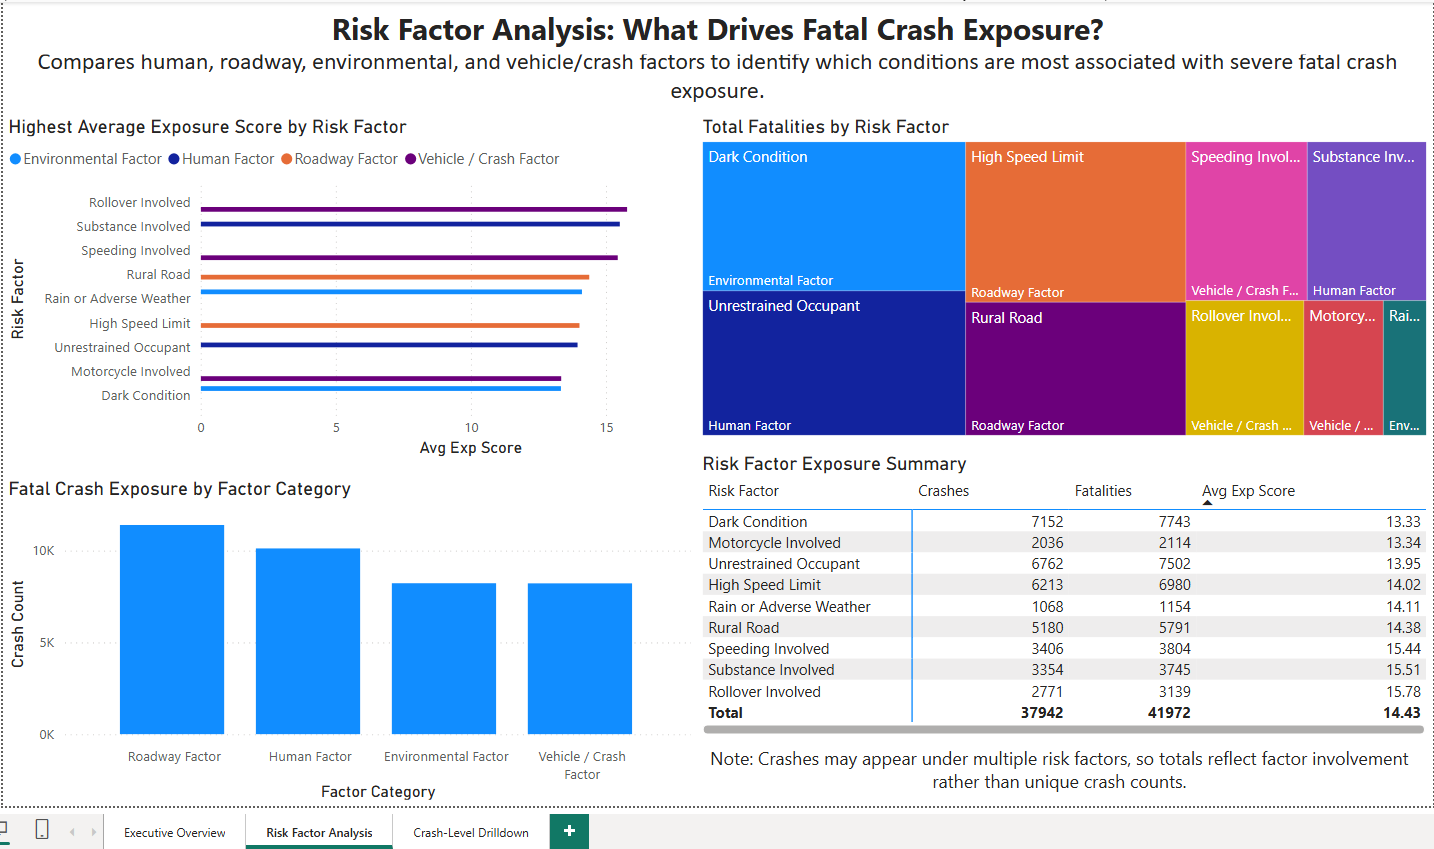

The dashboard page shown, as its layout file describes it:
{"tool":"powerbi","page":{"name":"Risk Factor Analysis","canvas":[1280,720],"ordinal":1},"visuals":[{"type":"textbox","box":[0,35,1279.6,66.3],"z":0},{"type":"textbox","box":[0,0,1279.6,47],"z":1000},{"type":"clusteredBarChart","title":"Highest Average Exposure Score by Risk Factor","fields":{"Y":["Avg(risk vw_risk_factor_summary.AVG_EXPOSURE_SCORE)"],"Category":["risk vw_risk_factor_summary.RISK_FACTOR"],"Series":["risk vw_risk_factor_summary.FACTOR_CATEGORY"]},"box":[0,101.3,673,311.2],"z":2000},{"type":"treemap","title":"Total Fatalities by Risk Factor","fields":{"Values":["Sum(risk vw_risk_factor_summary.TOTAL_FATALITIES)"],"Group":["risk vw_risk_factor_summary.RISK_FACTOR"],"Details":["risk vw_risk_factor_summary.FACTOR_CATEGORY"]},"box":[621.1,101.3,658.5,291.9],"z":3000},{"type":"columnChart","title":"Fatal Crash Exposure by Factor Category","fields":{"Category":["risk vw_risk_factor_summary.FACTOR_CATEGORY"],"Y":["Sum(risk vw_risk_factor_summary.CRASH_COUNT)"]},"box":[0,425.7,621.1,294.3],"z":4000},{"type":"pivotTable","title":"Risk Factor Exposure Summary","fields":{"Rows":["risk vw_risk_factor_summary.FACTOR_CATEGORY","risk vw_risk_factor_summary.RISK_FACTOR"],"Values":["Sum(risk vw_risk_factor_summary.CRASH_COUNT)","Sum(risk vw_risk_factor_summary.TOTAL_FATALITIES)","Avg(risk vw_risk_factor_summary.AVG_EXPOSURE_SCORE)"]},"box":[621.1,402.8,658.5,258.1],"z":5000},{"type":"textbox","box":[612.7,660.9,666.9,59.1],"z":7000}]}

Visuals, with their boxes on the page's 1280x720 design canvas (x1, y1, x2, y2). These are canvas units, not pixel positions in the 1434x849 screenshot, which may show the page scaled, cropped or inside an application window:
textbox: l=0, t=35, r=1280, b=101
textbox: l=0, t=0, r=1280, b=47
"Highest Average Exposure Score by Risk Factor" clusteredBarChart: l=0, t=101, r=673, b=412
"Total Fatalities by Risk Factor" treemap: l=621, t=101, r=1280, b=393
"Fatal Crash Exposure by Factor Category" columnChart: l=0, t=426, r=621, b=720
"Risk Factor Exposure Summary" pivotTable: l=621, t=403, r=1280, b=661
textbox: l=613, t=661, r=1280, b=720
